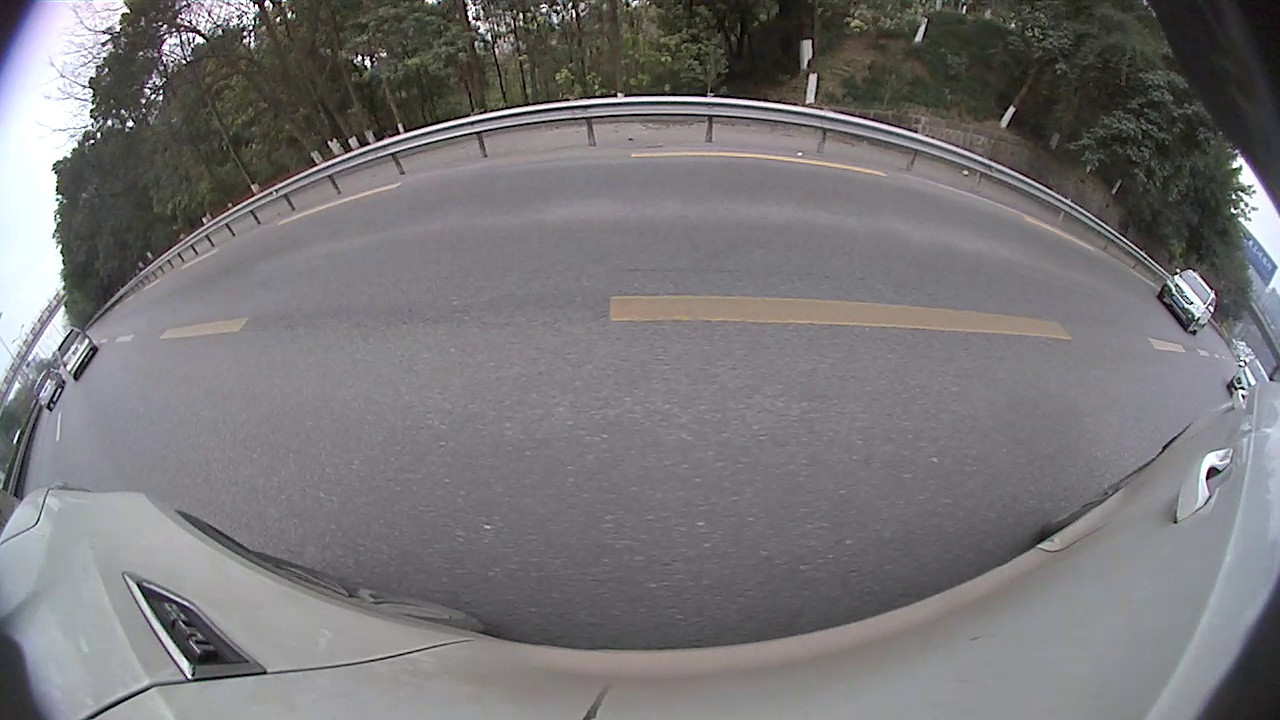bus: (944, 140, 1279, 395), (772, 117, 943, 165)
car: (1, 157, 363, 514), (596, 116, 780, 241), (777, 134, 961, 243), (474, 154, 565, 212), (558, 154, 600, 190)
front: (270, 247, 349, 346), (971, 207, 1004, 245), (779, 175, 791, 212)
rear: (1144, 282, 1190, 336), (832, 190, 868, 235), (537, 182, 548, 206)
